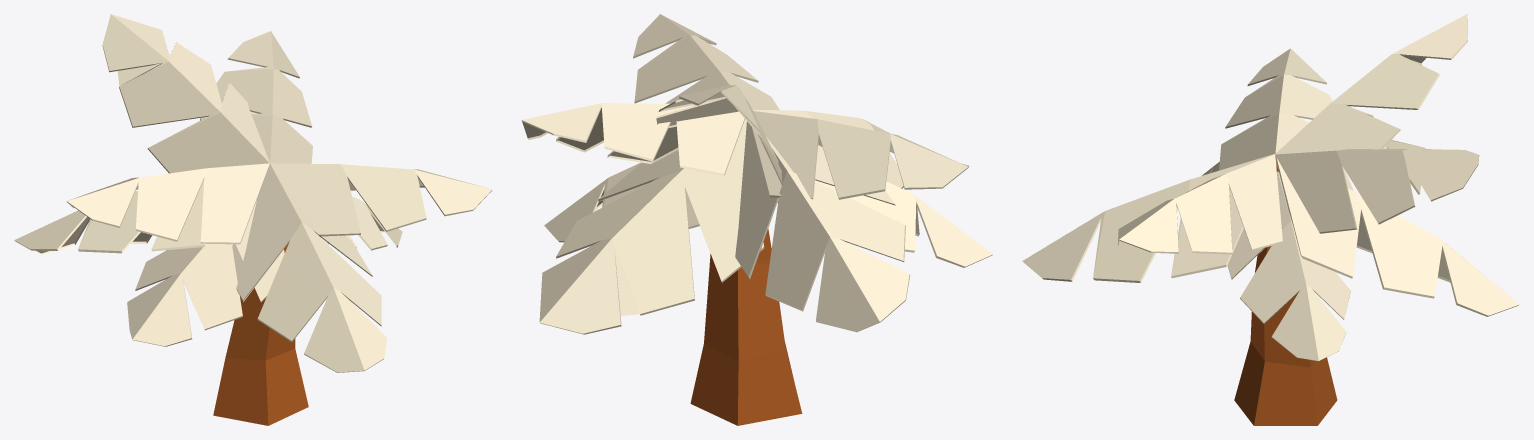
Rendered from Tree_12_Winter.fbx.
3 views of the same model, side by side, from view 1: azimuth 30°, elevation 25°; view 2: azimuth 150°, elevation 25°; view 3: azimuth 270°, elevation 25° (orthographic). The views are drawn at different scales.
Visible parts, largest first — view 1: Tree_12_p2_Winter, Tree_12_p1_Winter; view 2: Tree_12_p2_Winter, Tree_12_p1_Winter; view 3: Tree_12_p2_Winter, Tree_12_p1_Winter.
Part boxes in pixels (x1,y1,x2,y2): Tree_12_p2_Winter: (14,14,492,372); Tree_12_p1_Winter: (213,243,308,425); Tree_12_p2_Winter: (521,14,993,334); Tree_12_p1_Winter: (690,229,802,425); Tree_12_p2_Winter: (1022,14,1519,361); Tree_12_p1_Winter: (1234,161,1337,425).
Size of the model in its own units: 309 by 290 by 361.
